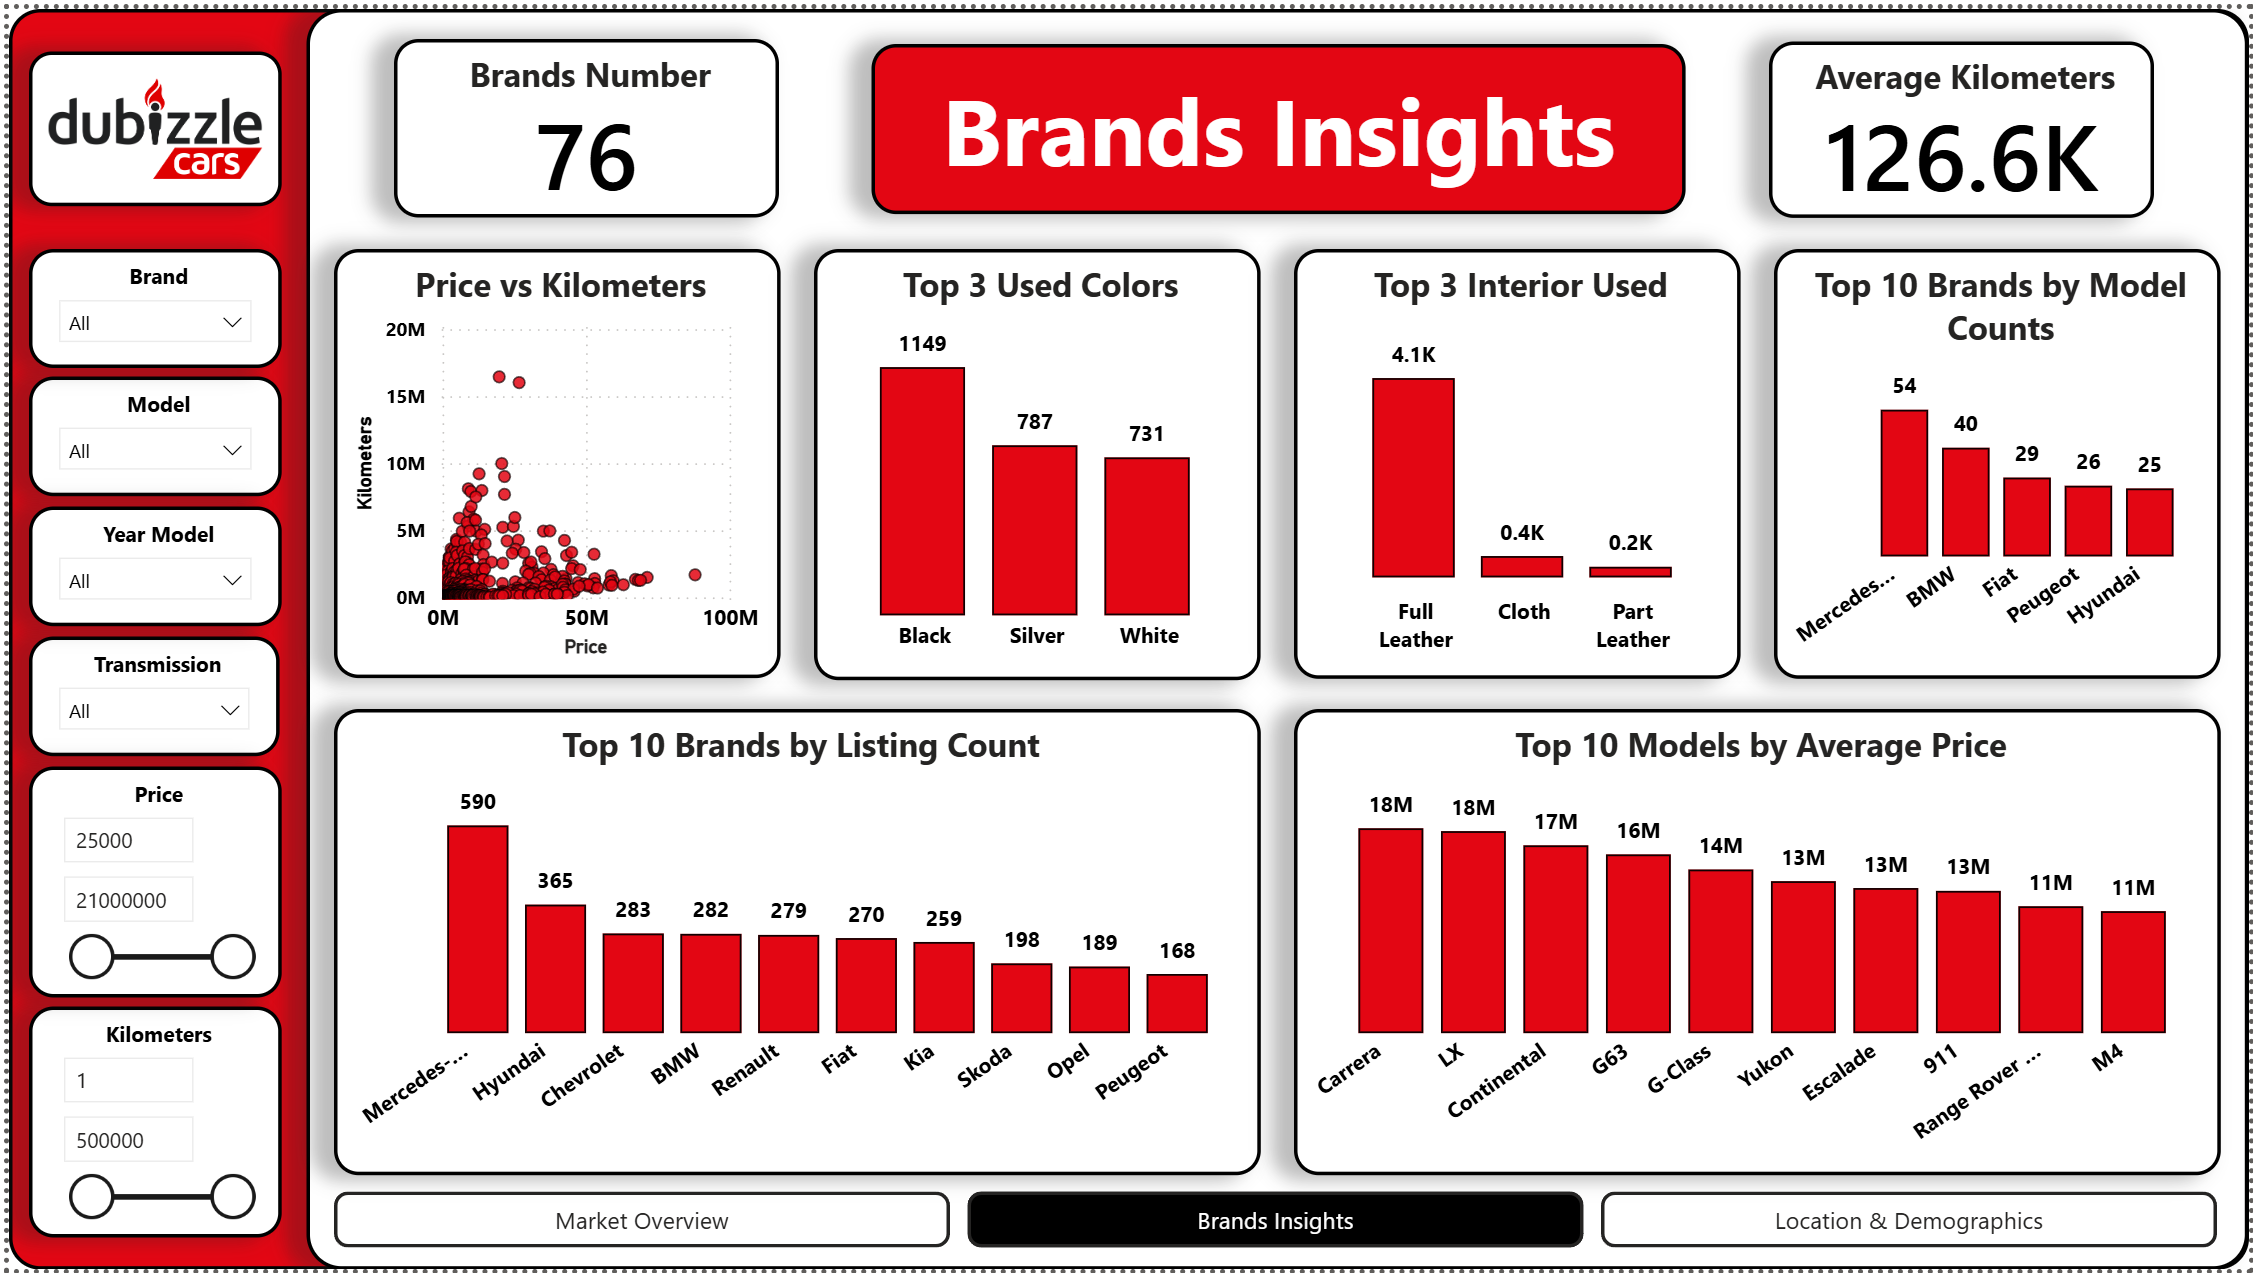

Layout of this report page (visuals, bound fields, positions):
{"tool":"powerbi","page":{"name":"Brands Insights","canvas":[1280,720],"ordinal":1},"visuals":[{"type":"shape","box":[0,0,1280,720.3],"z":0},{"type":"shape","box":[170.4,0,1109.6,720.3],"z":1000},{"type":"textbox","box":[492.6,19.9,465.2,97],"z":2000},{"type":"card","title":"Brands Number","fields":{"Values":["Count(dubizzle_cleaned_dataset.brand)"]},"box":[220.2,17.4,220.2,102],"z":3000},{"type":"card","title":"Average Kilometers","fields":{"Values":["Avg(dubizzle_cleaned_dataset.kilometers)"]},"box":[1006.4,18.7,220.2,100.8],"z":4000},{"type":"pageNavigator","box":[185.3,675.5,1078.5,32.3],"z":5000},{"type":"clusteredColumnChart","title":"Top 10 Brands by Listing Count","fields":{"Y":["CountNonNull(dubizzle_cleaned_dataset.brand)"],"Category":["dubizzle_cleaned_dataset.brand"]},"box":[185.2,399.3,529.7,266.2],"z":6000},{"type":"clusteredColumnChart","title":"Top 10 Models by Average Price","fields":{"Category":["dubizzle_cleaned_dataset.model"],"Y":["Dax_Measures.Average Price"]},"box":[734.1,399.3,529.7,266.2],"z":7000},{"type":"scatterChart","title":"Price vs Kilometers","fields":{"Category":["dubizzle_cleaned_dataset.price"],"Y":["Sum(dubizzle_cleaned_dataset.kilometers)"],"X":["Sum(dubizzle_cleaned_dataset.price)"]},"box":[185.3,136.8,255,245.1],"z":8000},{"type":"clusteredColumnChart","title":"Top 10 Brands by Model Counts","fields":{"Category":["dubizzle_cleaned_dataset.brand"],"Y":["Count(dubizzle_cleaned_dataset.model)"]},"box":[1008.6,137.2,255.2,245.6],"z":9000},{"type":"clusteredColumnChart","title":"Top 3 Used Colors","fields":{"Category":["dubizzle_cleaned_dataset.color"],"Y":["Dax_Measures.Total Listings"]},"box":[460.3,136.8,255,246.3],"z":10000},{"type":"image","box":[11.2,24.9,144.3,88.3],"z":11000},{"type":"slicer","title":"Transmission","fields":{"Values":["dubizzle_cleaned_dataset.transmission"]},"box":[11.9,358.3,143.1,68.4],"z":12000},{"type":"slicer","title":"Kilometers","fields":{"Values":["dubizzle_cleaned_dataset.kilometers"]},"box":[11.3,569.7,144.3,131.9],"z":13000},{"type":"slicer","title":"Model","fields":{"Values":["dubizzle_cleaned_dataset.model"]},"box":[11.3,210.4,144.3,68.4],"z":14000},{"type":"slicer","title":"Brand","fields":{"Values":["dubizzle_cleaned_dataset.brand"]},"box":[11.3,136.8,144.3,68],"z":15000},{"type":"slicer","title":"Price","fields":{"Values":["dubizzle_cleaned_dataset.price"]},"box":[11.3,432.3,144.3,131.9],"z":16000},{"type":"slicer","title":"Year Model","fields":{"Values":["dubizzle_cleaned_dataset.year"]},"box":[11.3,284.4,144.3,68.4],"z":17000},{"type":"clusteredColumnChart","title":"Top 3 Interior Used","fields":{"Category":["dubizzle_cleaned_dataset.interior"],"Y":["Dax_Measures.Total Listings"]},"box":[734.1,137.2,255.2,245.6],"z":17001}]}

Visuals, with their boxes in screenshot pixels (x1, y1, x2, y2), scaled from the page's 1280x720 canvas onto the 2253x1273 screenshot:
shape: (0, 0, 2252, 1272)
shape: (300, 0, 2252, 1272)
textbox: (867, 35, 1686, 207)
"Brands Number" card: (388, 31, 775, 211)
"Average Kilometers" card: (1771, 33, 2159, 211)
pageNavigator: (326, 1194, 2224, 1251)
"Top 10 Brands by Listing Count" clusteredColumnChart: (326, 706, 1258, 1177)
"Top 10 Models by Average Price" clusteredColumnChart: (1292, 706, 2224, 1177)
"Price vs Kilometers" scatterChart: (326, 242, 775, 675)
"Top 10 Brands by Model Counts" clusteredColumnChart: (1775, 243, 2224, 677)
"Top 3 Used Colors" clusteredColumnChart: (810, 242, 1259, 677)
image: (20, 44, 274, 200)
"Transmission" slicer: (21, 633, 273, 754)
"Kilometers" slicer: (20, 1007, 274, 1240)
"Model" slicer: (20, 372, 274, 493)
"Brand" slicer: (20, 242, 274, 362)
"Price" slicer: (20, 764, 274, 998)
"Year Model" slicer: (20, 503, 274, 624)
"Top 3 Interior Used" clusteredColumnChart: (1292, 243, 1741, 677)
